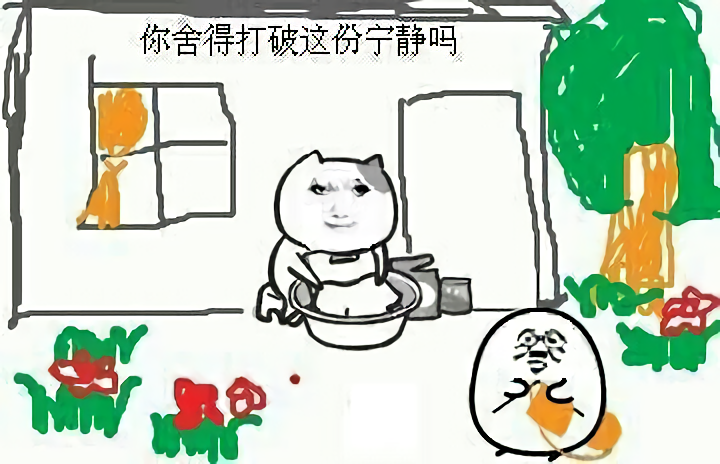dragon: (307, 176, 375, 236)
